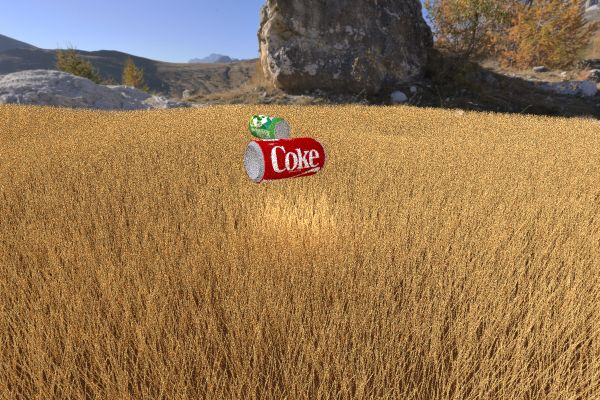bottle: (347, 109, 446, 170)
can: (93, 116, 178, 164), (106, 103, 130, 122)
